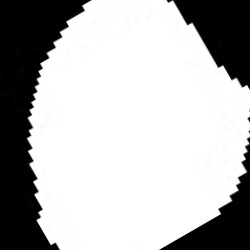spot: (28, 2, 249, 248)
